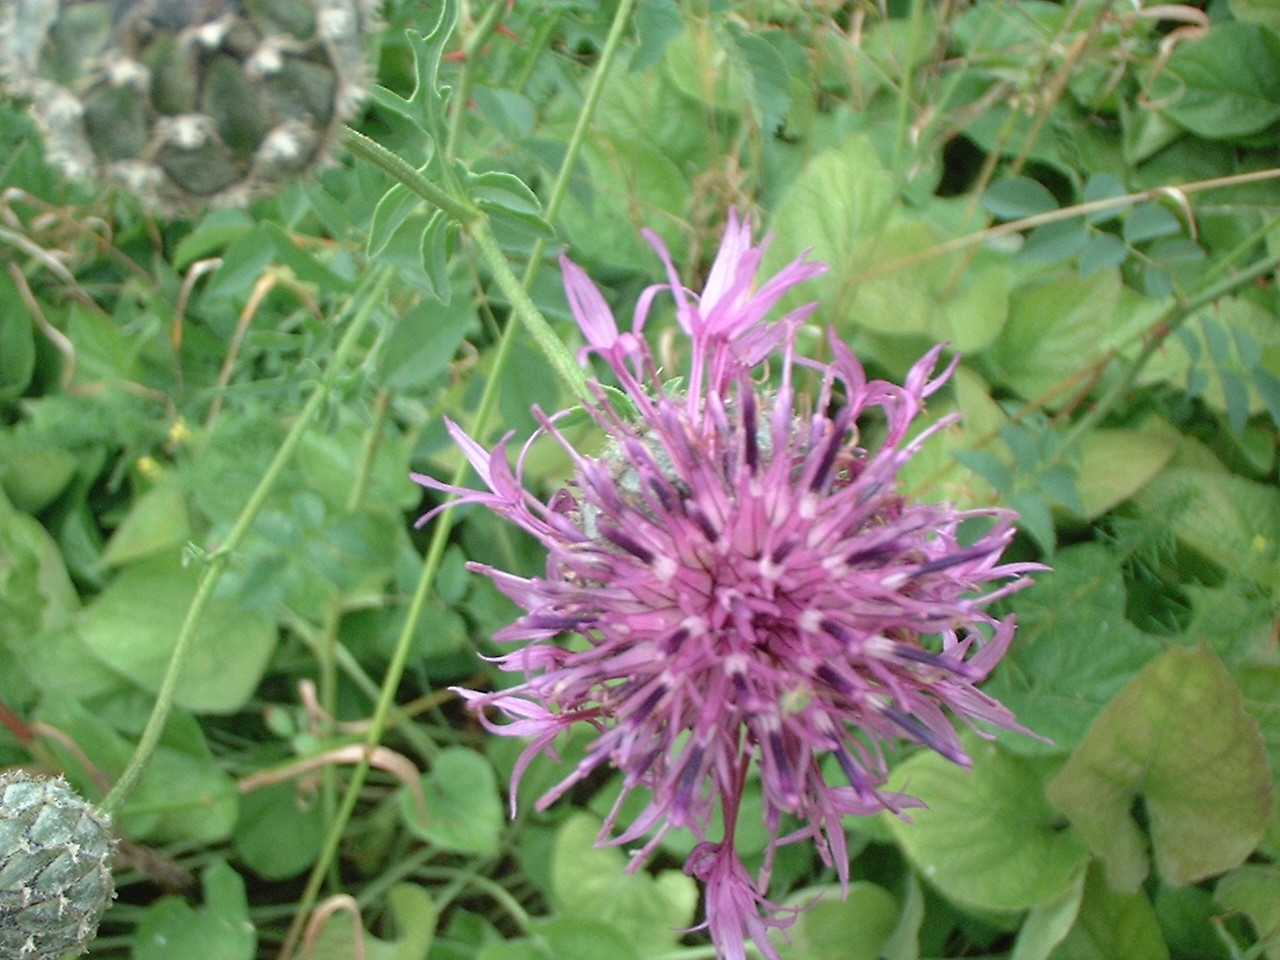thistle: (470, 272, 1002, 886)
